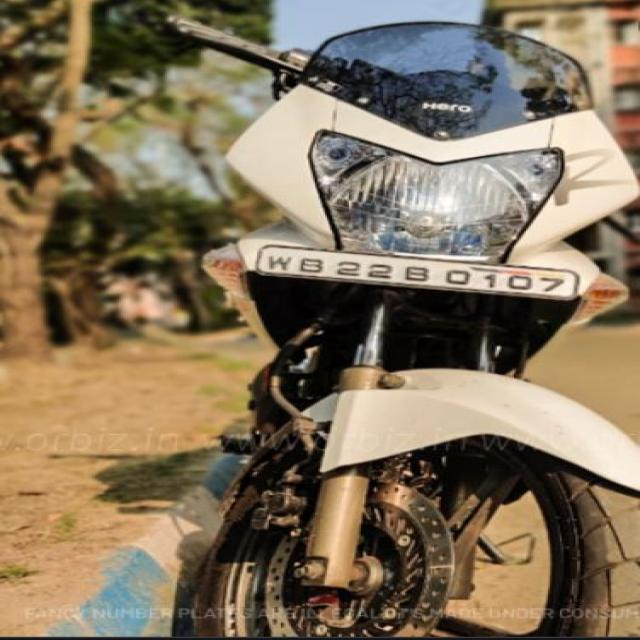number plate: (252, 244, 580, 301)
